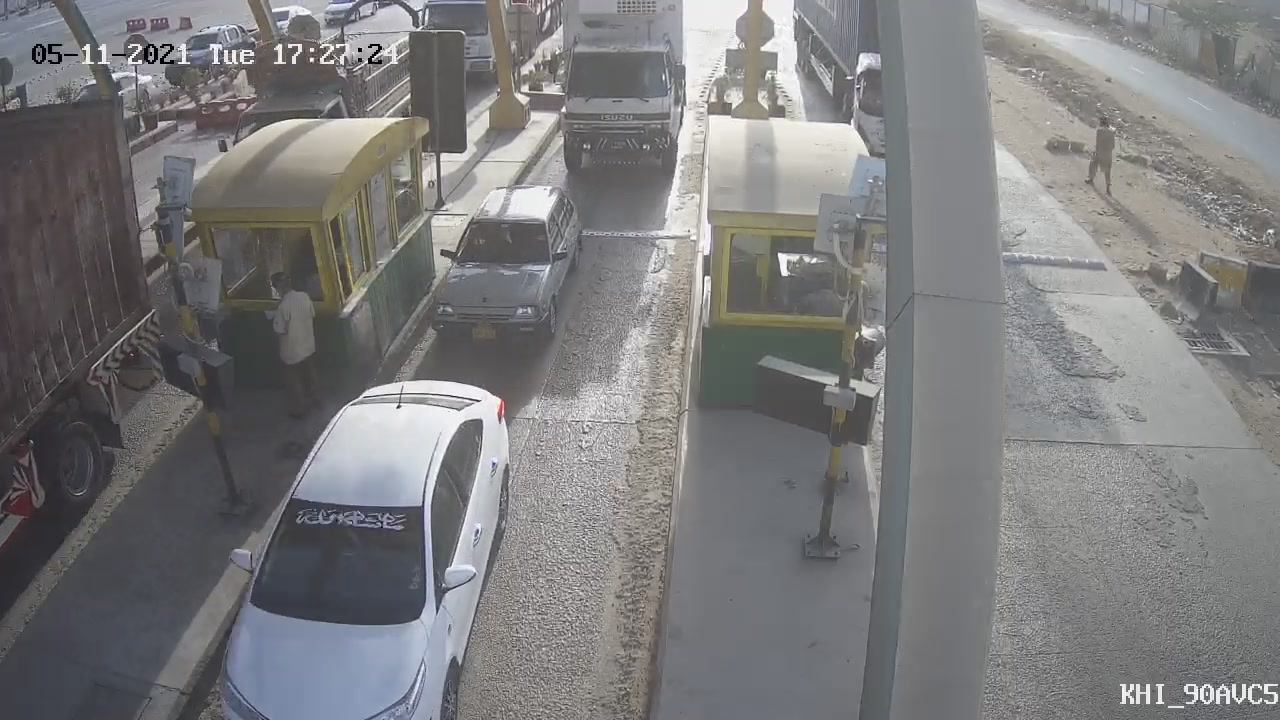F1: (407, 166, 601, 375)
